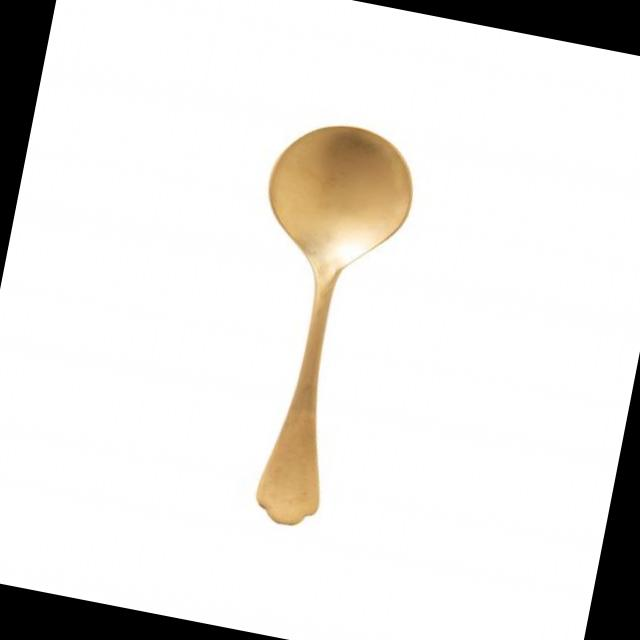spoon: (194, 104, 428, 550)
